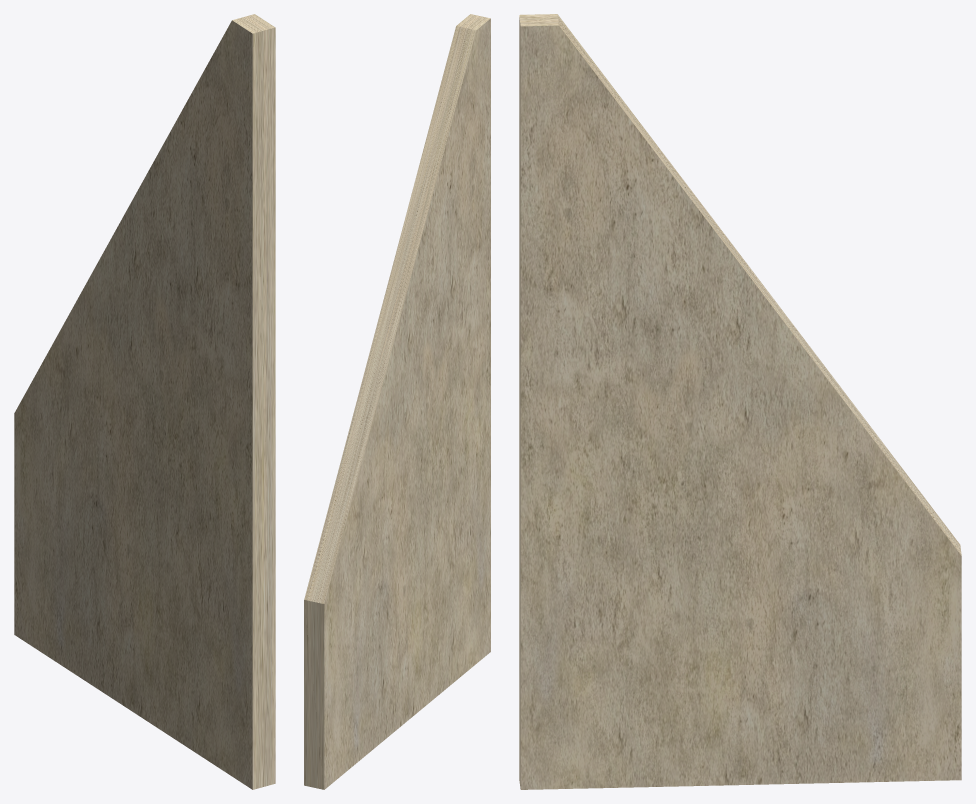
File: concrete_47.fbx
3 renders of one model, left to right at view 1: azimuth 30°, elevation 25°; view 2: azimuth 150°, elevation 25°; view 3: azimuth 270°, elevation 25°, orthographic. The views are drawn at different scales.
Parts seen in each view (by area): view 1: concrete_47; view 2: concrete_47; view 3: concrete_47.
Boxes of the visible parts, box(x1,y1,x2,y2) form: concrete_47: box(14, 14, 275, 789); concrete_47: box(304, 14, 490, 789); concrete_47: box(519, 14, 961, 789).
Bounding box in the file's own units: 18.41 × 307 × 161.
